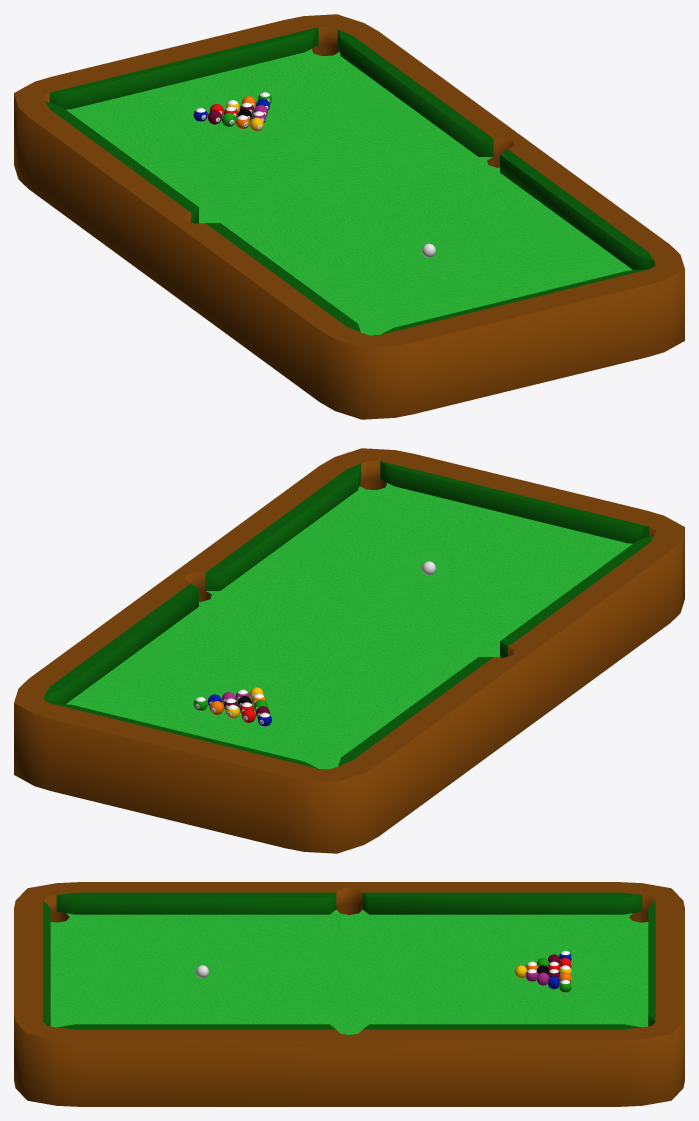
Rendered from Pool.fbx.
3 views of the same model, one above another, from view 1: azimuth 30°, elevation 25°; view 2: azimuth 150°, elevation 25°; view 3: azimuth 270°, elevation 25° (orthographic). The views are drawn at different scales.
Visible parts, largest first — view 1: PlaneField, Table, Rim; view 2: PlaneField, Table, Rim; view 3: Table, PlaneField, Rim.
Part boxes in pixels (left/top/right/bottom): PlaneField: left=66, top=49, right=632, bottom=335; Table: left=14, top=14, right=684, bottom=419; Rim: left=44, top=27, right=654, bottom=334; PlaneField: left=66, top=483, right=632, bottom=769; Table: left=14, top=448, right=684, bottom=853; Rim: left=44, top=461, right=654, bottom=768; Table: left=14, top=882, right=684, bottom=1106; PlaneField: left=50, top=909, right=648, bottom=1034; Rim: left=43, top=892, right=655, bottom=1029.
Size of the model in its own units: 1.53 by 0.3 by 2.74.
Materials: 19 (16 with a texture image).
